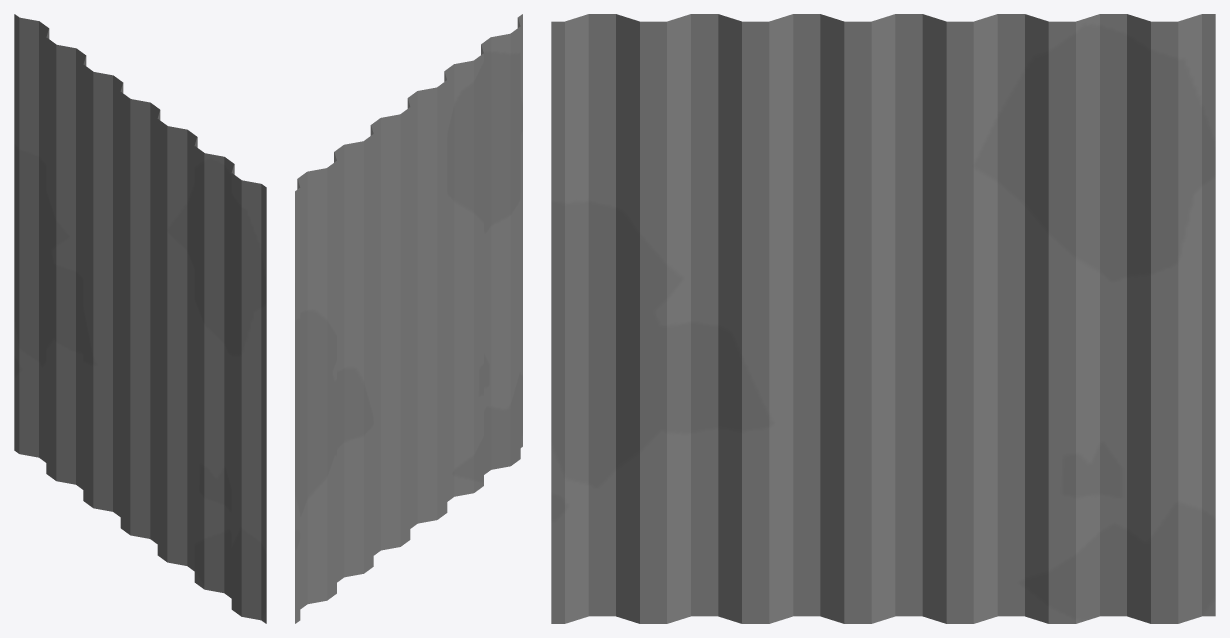
The model's file is Slate.FBX.
The picture shows the model from 3 angles, left to right: view 1: azimuth 30°, elevation 25°; view 2: azimuth 150°, elevation 25°; view 3: azimuth 270°, elevation 25°; orthographic projection. The views are drawn at different scales.
Visible parts, largest first — view 1: Slate; view 2: Slate; view 3: Slate.
Part boxes in pixels (box(x1,y1,x2,y2)): Slate: box(14, 14, 266, 623); Slate: box(295, 14, 522, 623); Slate: box(551, 14, 1215, 623).
Bounding box in the file's own units: 5 × 180 × 180.
